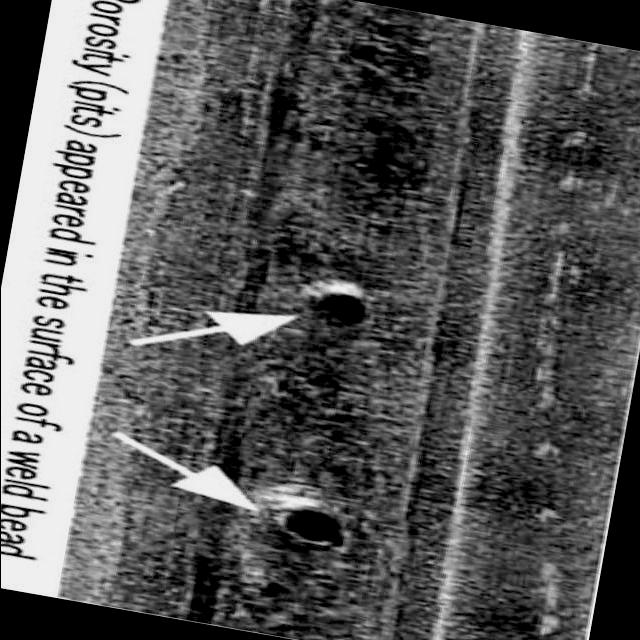defect: (307, 272, 399, 339), (263, 506, 357, 553)
